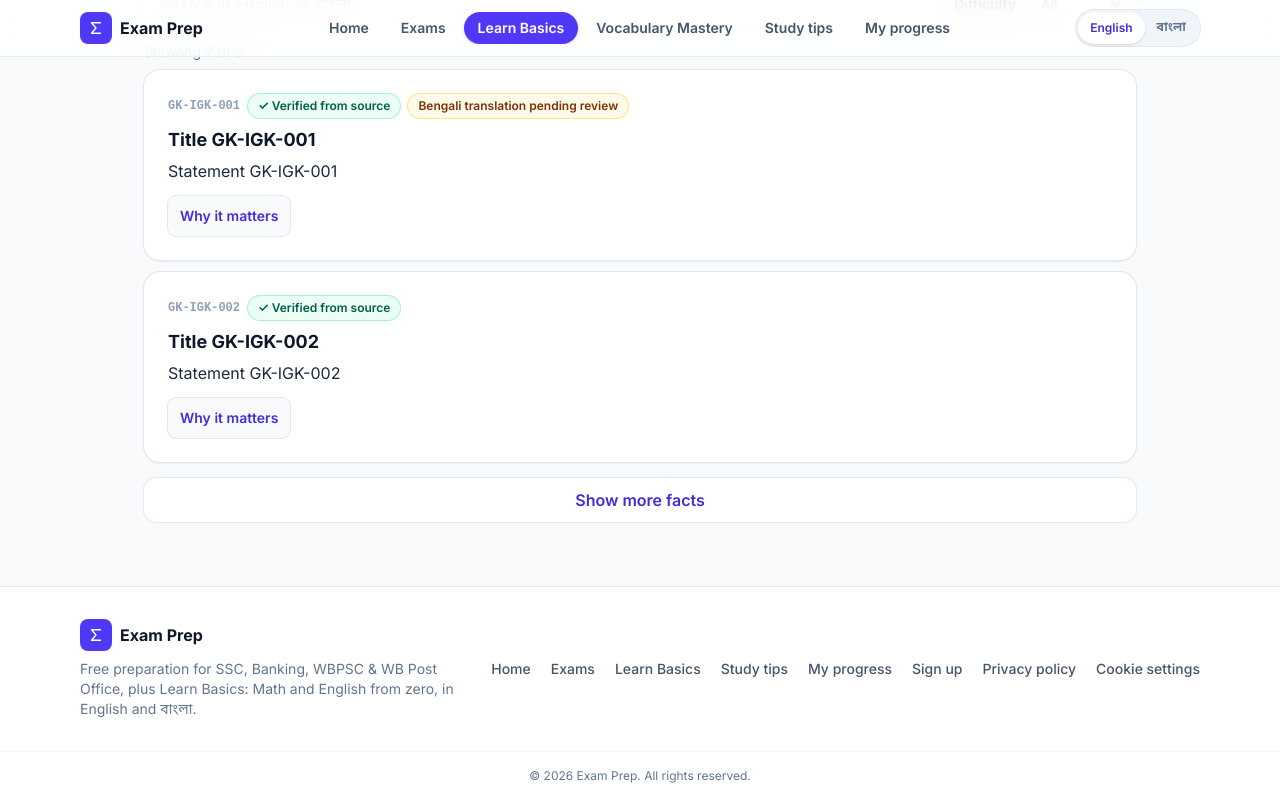
GK chapter › lists facts with honest labels, loads more on request, and links level quizzes
Later steps or results of the test are not shown.
(page scrolled)
Expected: the text "Statement GK-IGK-001" is shown, [168, 161, 337, 181]
Expected: the text "Verified from source" is shown 2 times, [272, 98, 390, 113]; [272, 300, 390, 315]
Step 1. Click the button "Show more facts" → [640, 500], box [144, 478, 1136, 522]
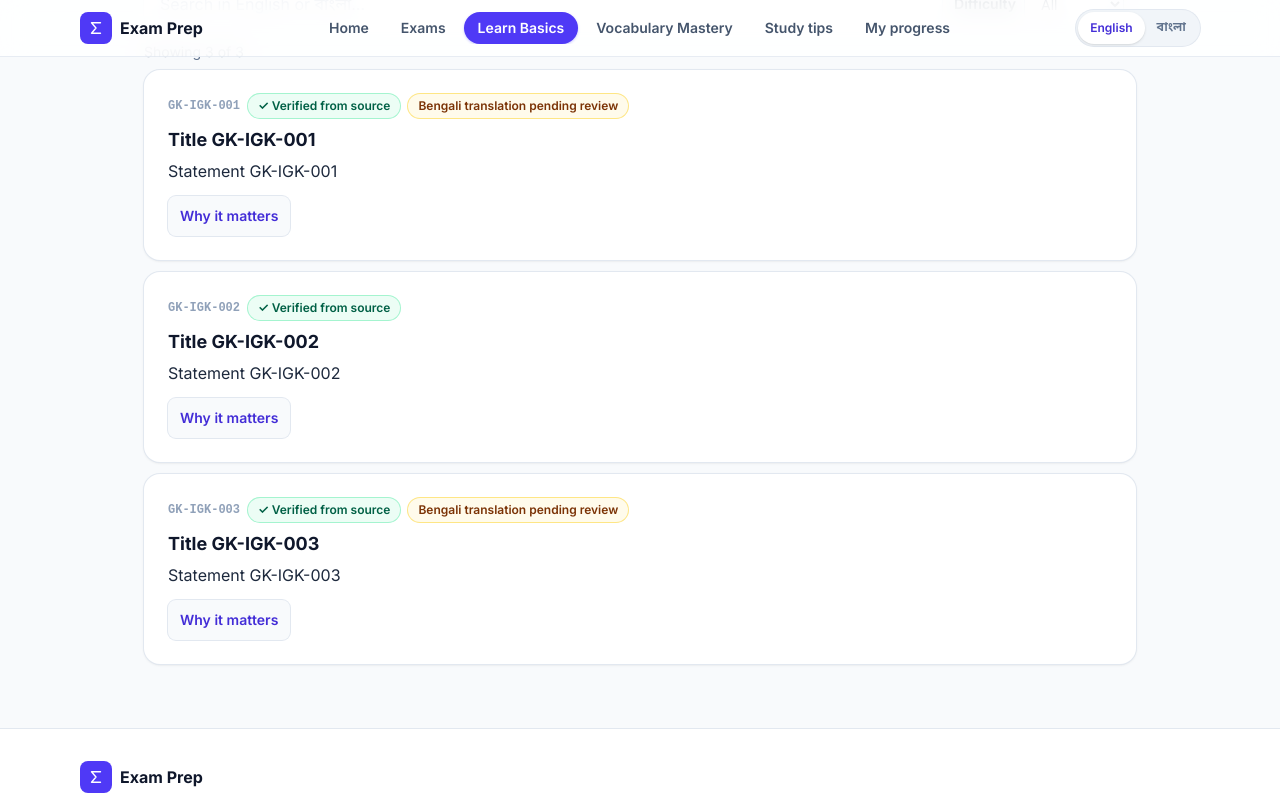
Now the text "Statement GK-IGK-003" is shown, box [168, 565, 340, 585]
